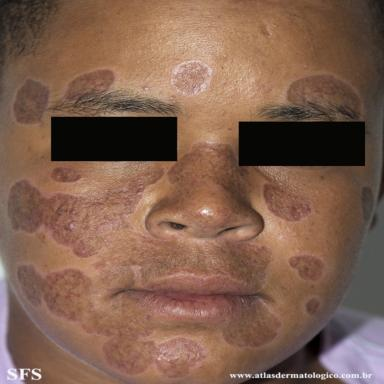Lupus-Erythematosus-Chronicus-Discoides: (18, 265, 206, 378), (9, 171, 161, 257), (95, 223, 272, 288), (168, 142, 245, 198), (223, 301, 281, 347), (288, 74, 360, 111), (264, 184, 312, 221), (13, 78, 50, 124), (64, 69, 115, 100), (171, 60, 212, 97), (290, 255, 324, 280), (361, 186, 375, 223), (51, 167, 83, 183), (306, 299, 320, 315)
